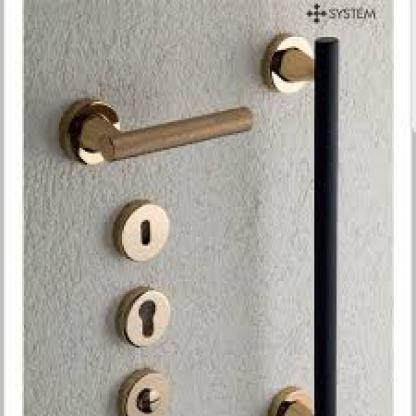door: (27, 16, 396, 415)
lever: (86, 88, 264, 184)
